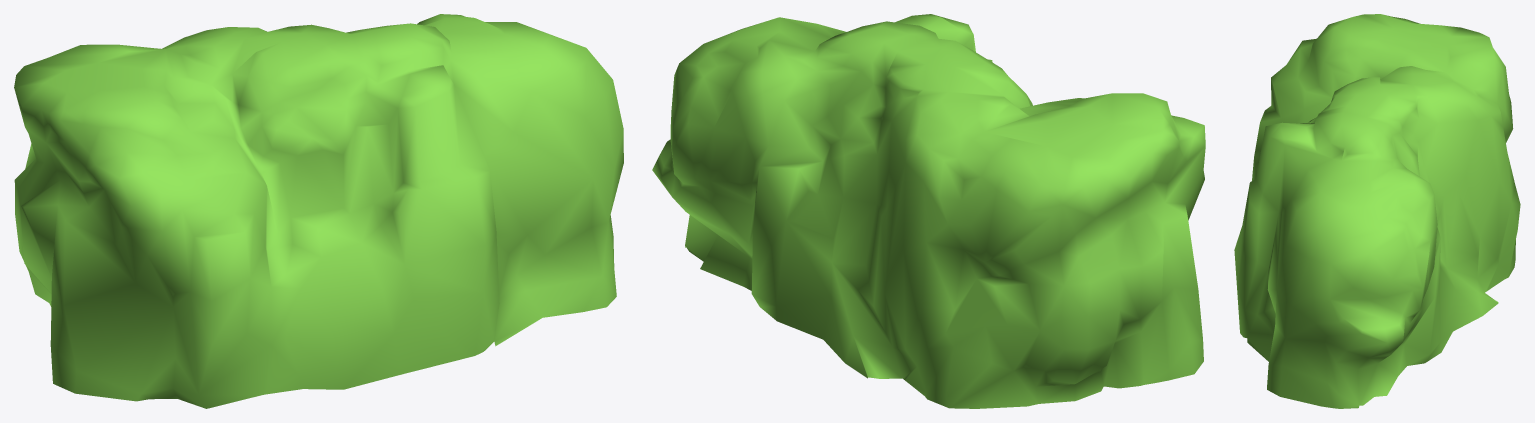
File: rock_half_01.FBX
3 renders of one model, left to right at view 1: azimuth 30°, elevation 25°; view 2: azimuth 150°, elevation 25°; view 3: azimuth 270°, elevation 25°, orthographic. The views are drawn at different scales.
Visible parts, largest first — view 1: rock_half_01; view 2: rock_half_01; view 3: rock_half_01.
Part boxes in pixels (box(x1,y1,x2,y2)): rock_half_01: box(14, 14, 623, 408); rock_half_01: box(652, 14, 1205, 408); rock_half_01: box(1234, 14, 1520, 408).
Bounding box in the file's own units: 825 × 393 × 476.
